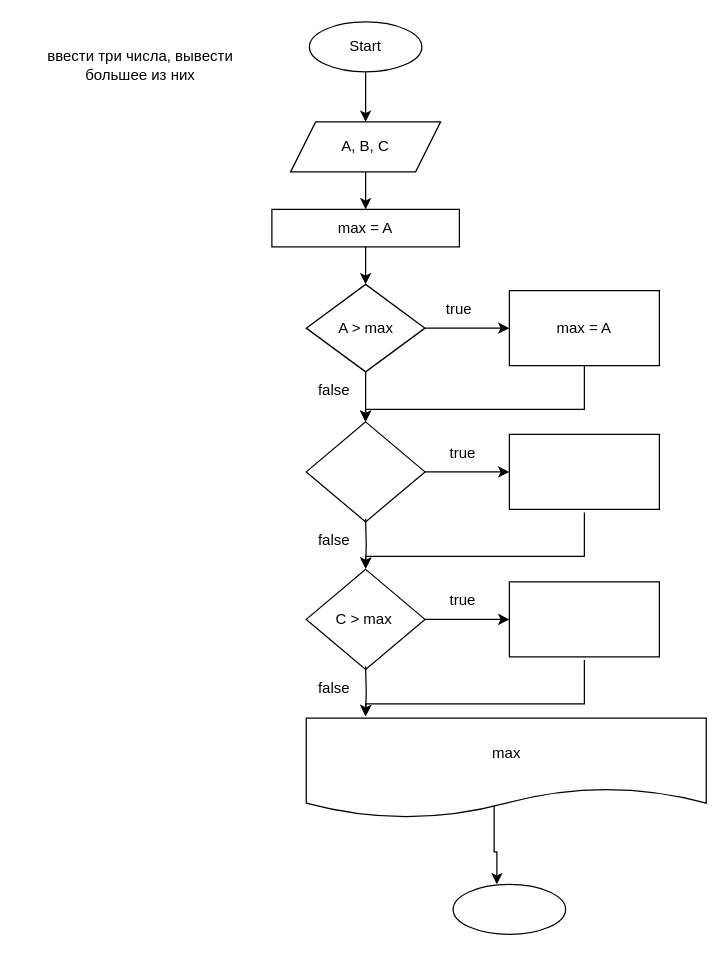
The diagram is 728 pixels wide and 956 high, and some of its shapes have lost their labels. Each missing label, with the centre of its shape:
B > max: pixel 365 471
End: pixel 509 908
max = B: pixel 583 471
max = C: pixel 583 619
